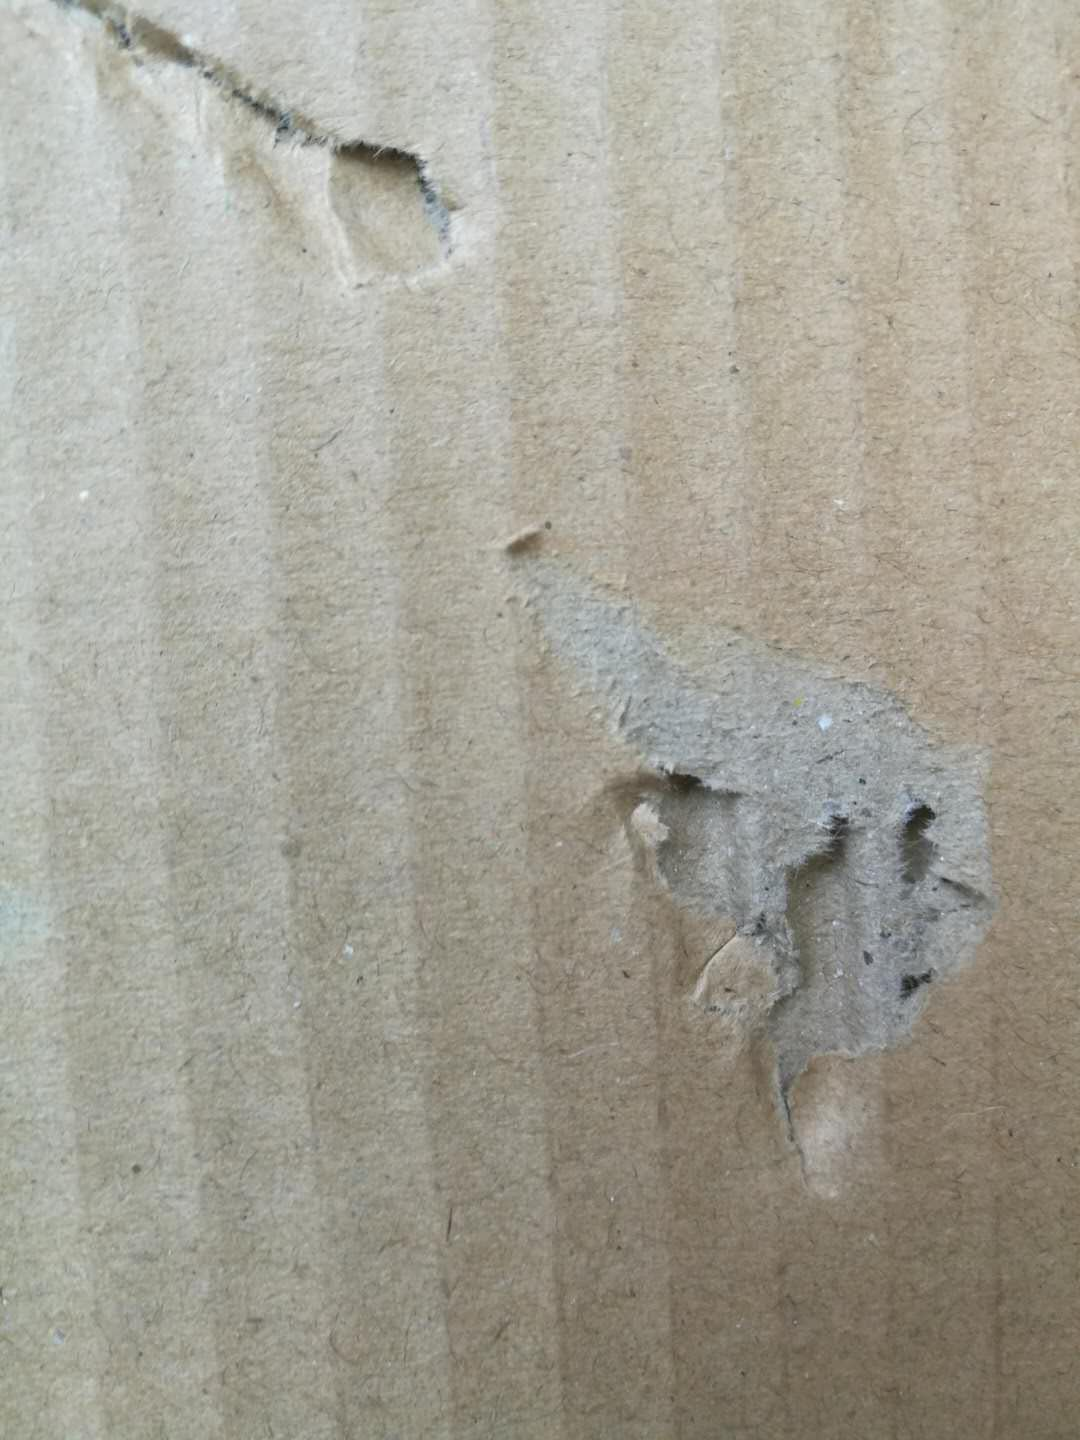defect: (469, 508, 1022, 1242), (6, 2, 515, 325)
